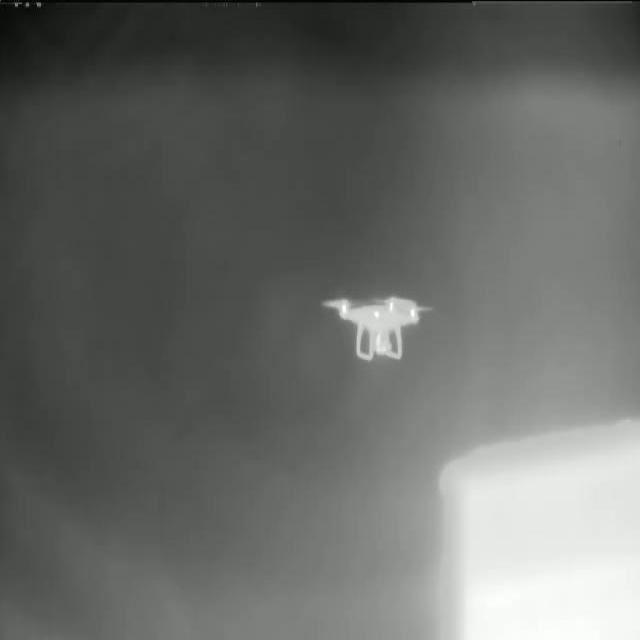DRONE: (319, 289, 435, 364)
